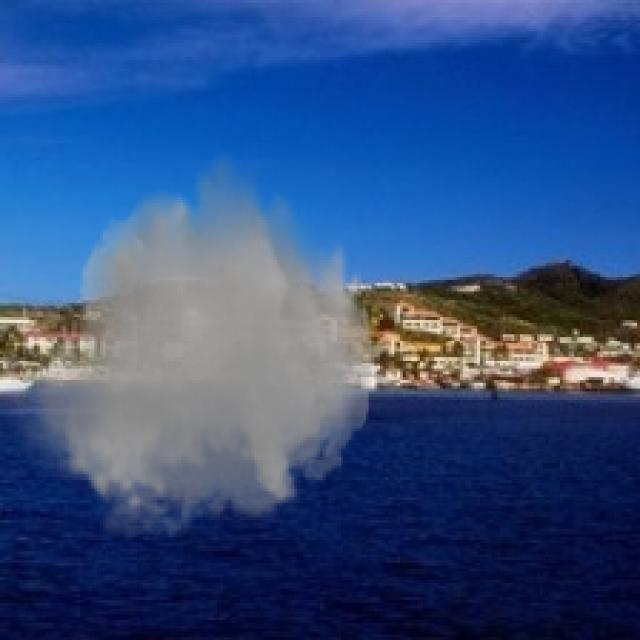Smoke: (6, 142, 383, 554)
